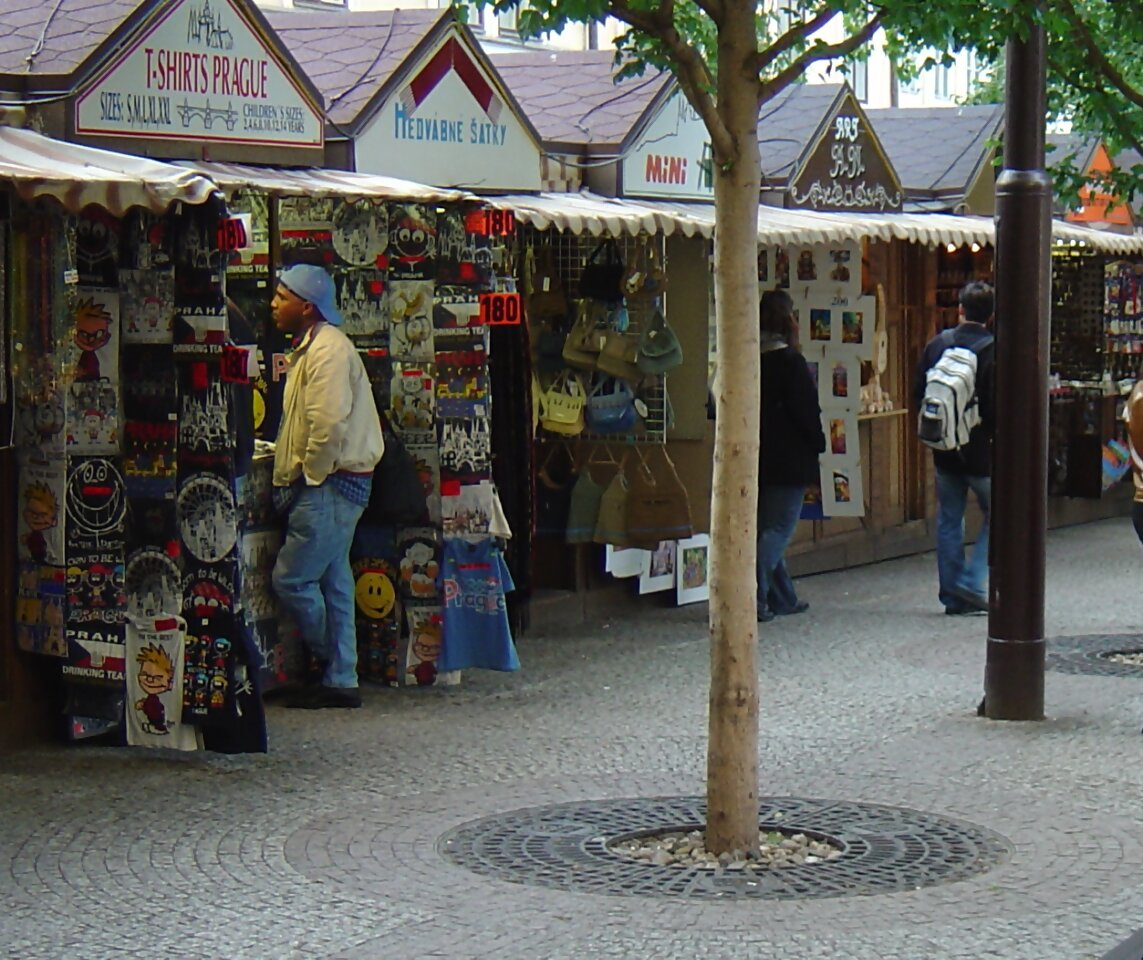person: (255, 262, 399, 714), (897, 271, 1005, 627), (760, 285, 826, 630)
